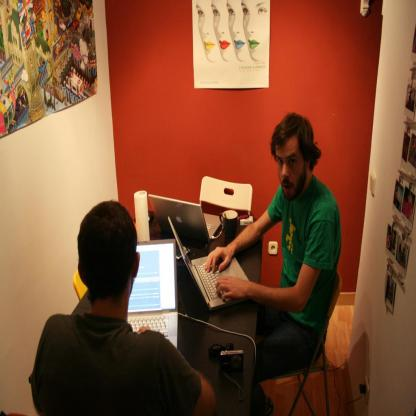board: (166, 218, 245, 322), (128, 241, 178, 349), (149, 194, 222, 242)
